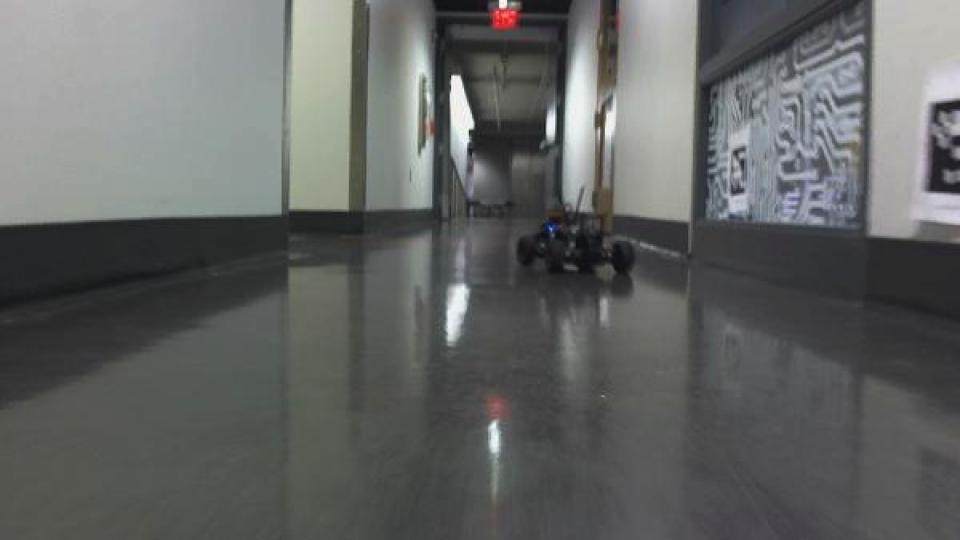car: (512, 185, 638, 281)
